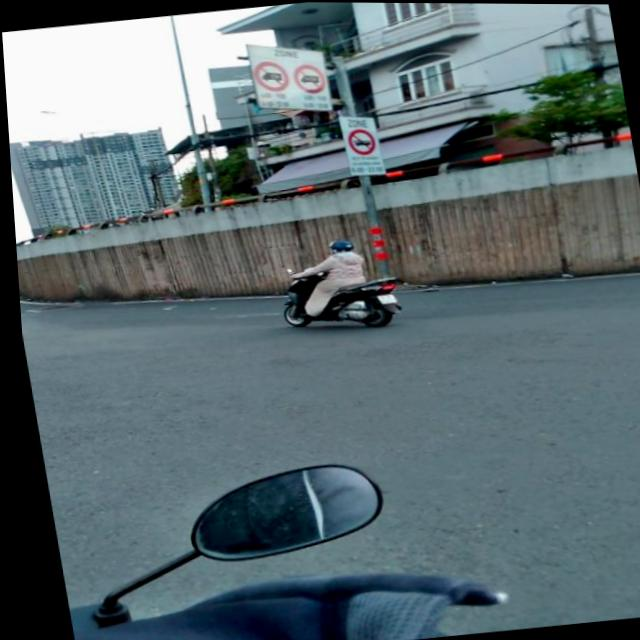Cam xe tai tren 2_5: (249, 57, 290, 94), (290, 62, 326, 95)
